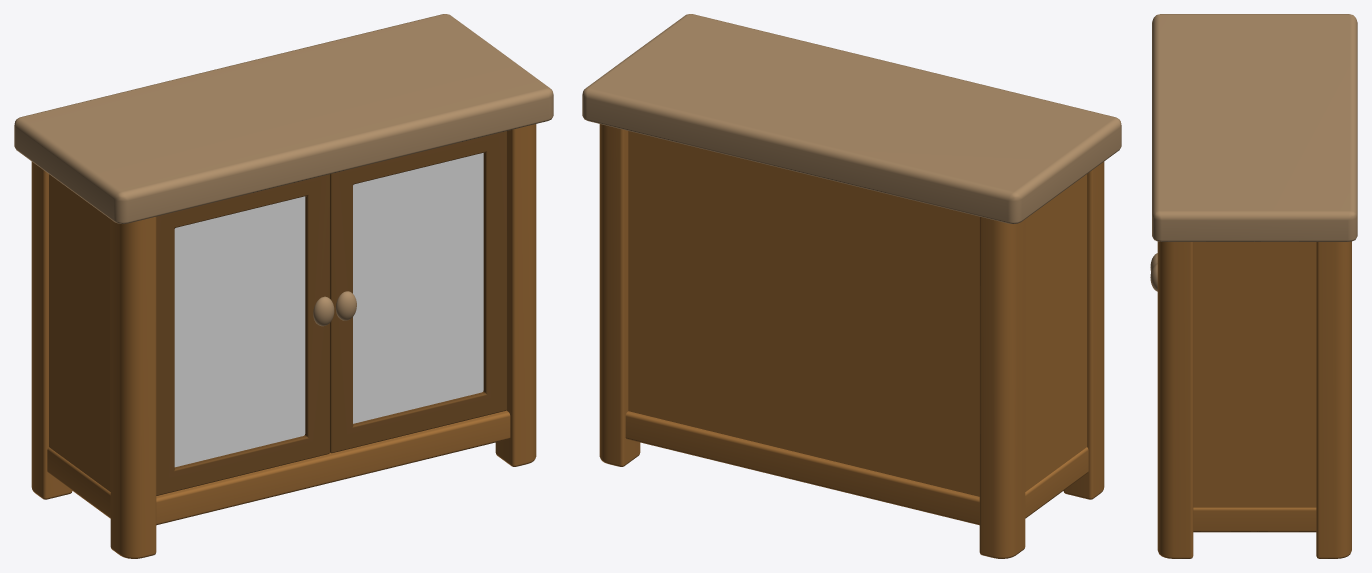
Rendered from SM_Shelf_Wood_01.fbx.
The picture shows the model from 3 angles, left to right: view 1: azimuth 30°, elevation 25°; view 2: azimuth 150°, elevation 25°; view 3: azimuth 270°, elevation 25°; orthographic projection. The views are drawn at different scales.
Visible parts, largest first — view 1: Plane.004, Cube.008, Cube, Cube.011, Cube.007, Sphere; view 2: Cube.009, Cube.008, Cube, Cube.007; view 3: Cube.008, Cube.007, Cube.
Part boxes in pixels (x1,y1,x2,y2): Plane.004: (174, 153, 483, 467); Cube.008: (14, 14, 553, 223); Cube: (31, 124, 536, 558); Cube.011: (156, 131, 506, 495); Cube.007: (49, 174, 110, 491); Sphere: (313, 291, 356, 326); Cube.009: (628, 131, 979, 496); Cube.008: (582, 14, 1121, 223); Cube: (599, 124, 1104, 558); Cube.007: (1025, 174, 1086, 491); Cube.008: (1152, 14, 1357, 241); Cube.007: (1193, 242, 1316, 507); Cube: (1157, 241, 1351, 558).
Bounding box in the file's own units: 148 × 120 × 64.
